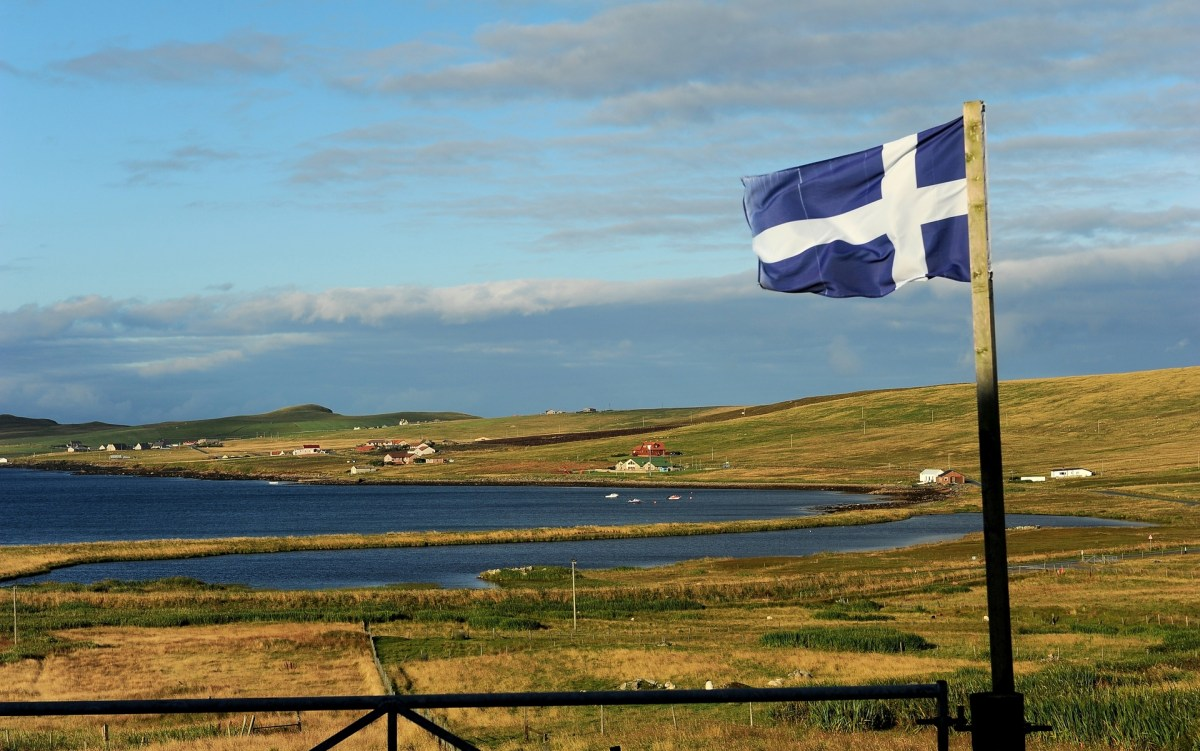Flag: (733, 110, 997, 302)
